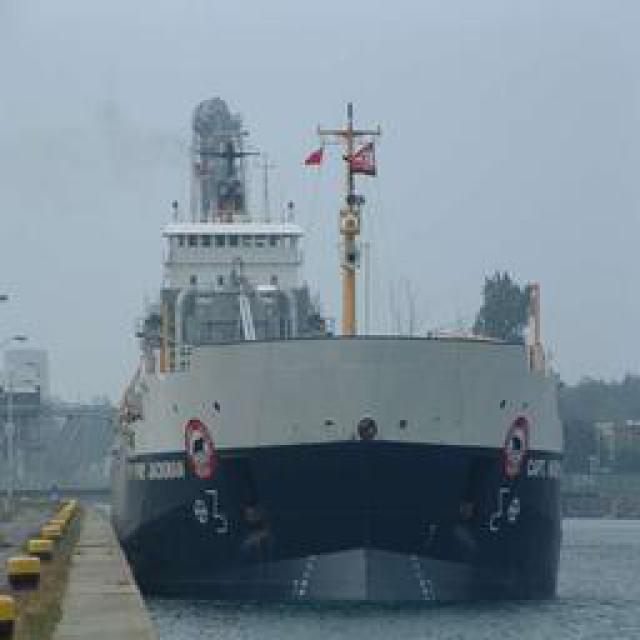Ship: (119, 48, 572, 613)
